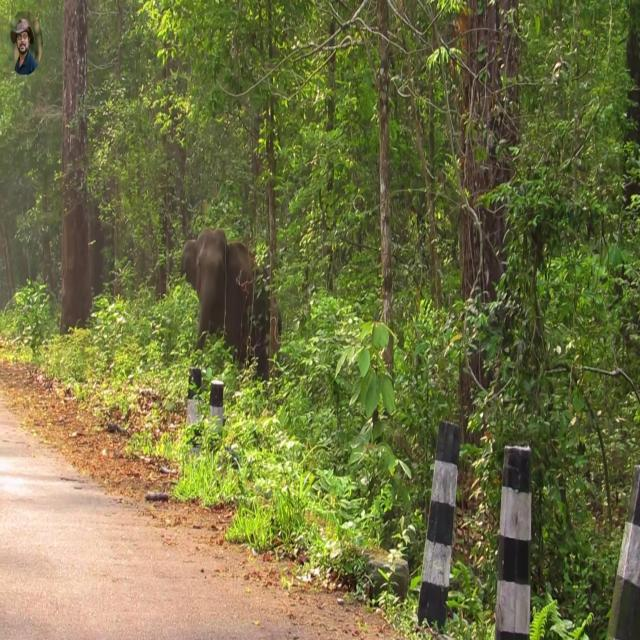Elephant: (180, 226, 282, 383)
